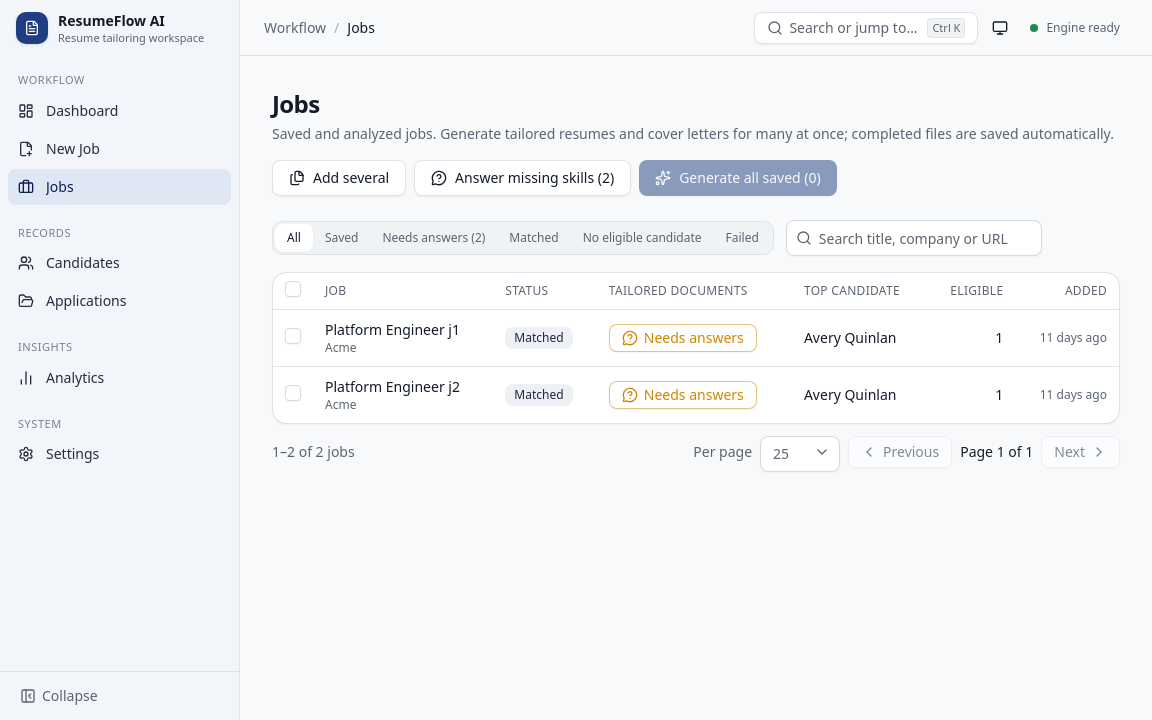
Test case: one confirmation session for every waiting job › lists the most required skills across jobs and continues the jobs after answering
expect the number of buttons "Needs answers" is 2: met, box [609, 324, 757, 352]; [609, 380, 757, 408]
Click the button "Answer missing skills (2)": (523, 178) [414, 160, 631, 196]
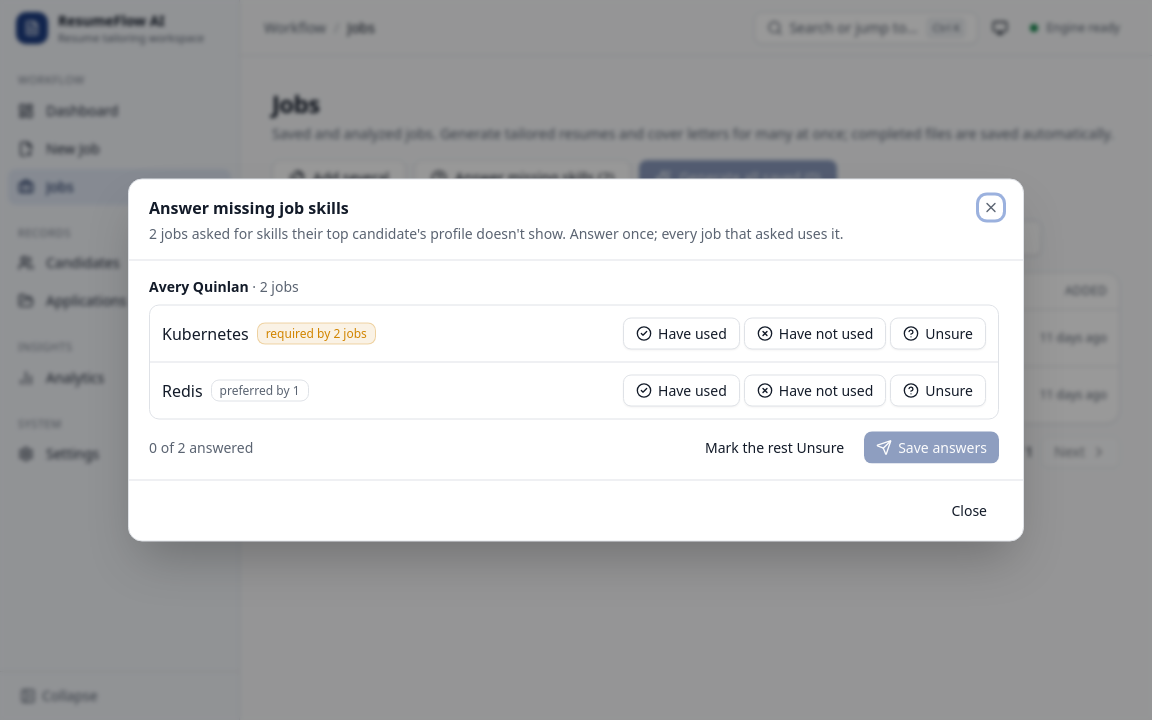
expect the text "required by 2 jobs" is shown: met, box [257, 322, 376, 344]
Click the button with aria-label "Have used: Kubernetes": (681, 334) [623, 318, 740, 350]
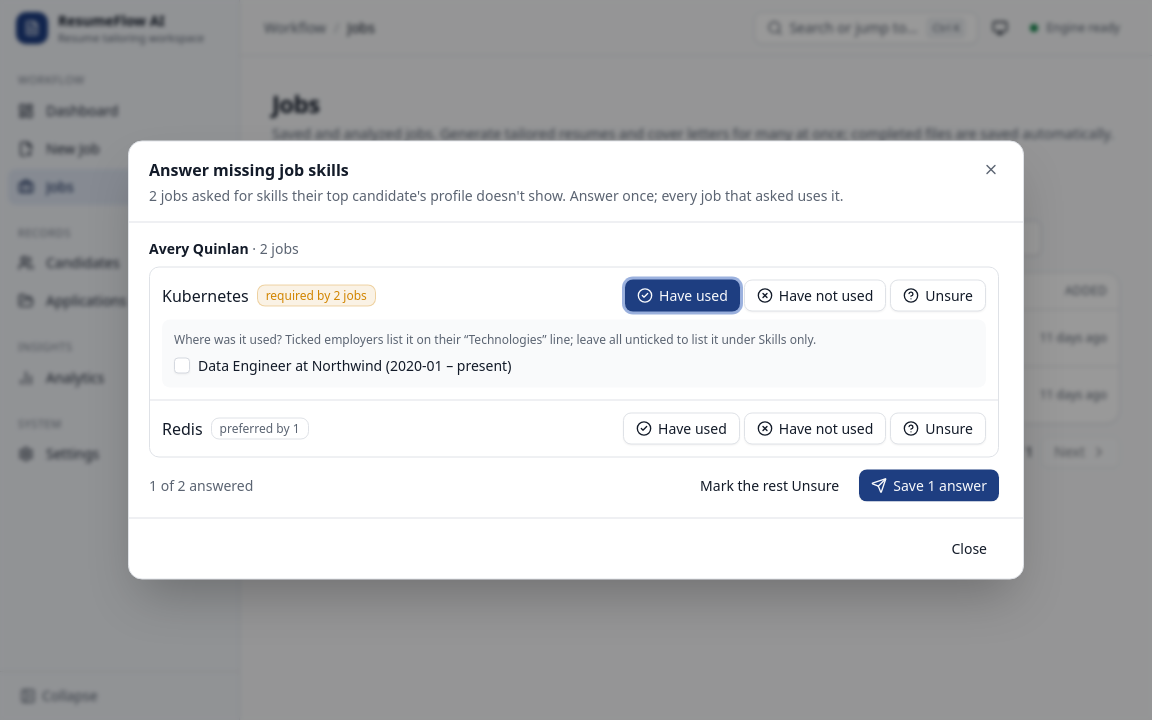
Click the button "Save 1 answer": (929, 486) [859, 470, 999, 502]
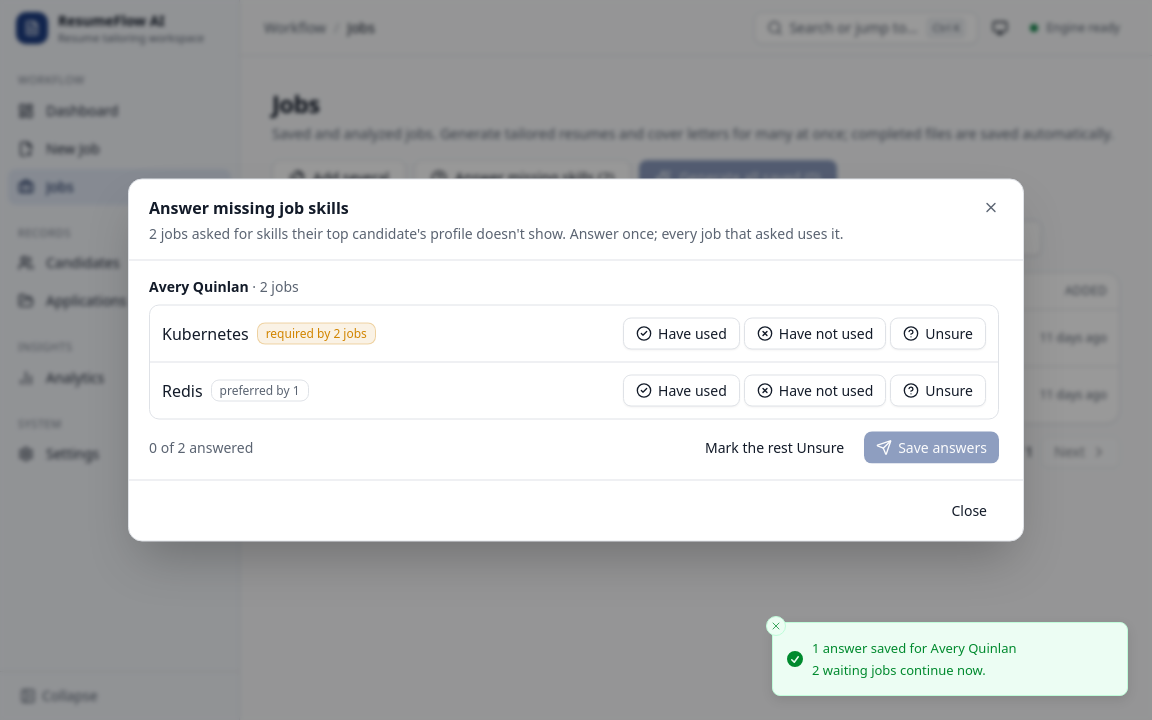
expect the text "2 waiting jobs continue now." is shown: met, box [812, 661, 986, 679]
